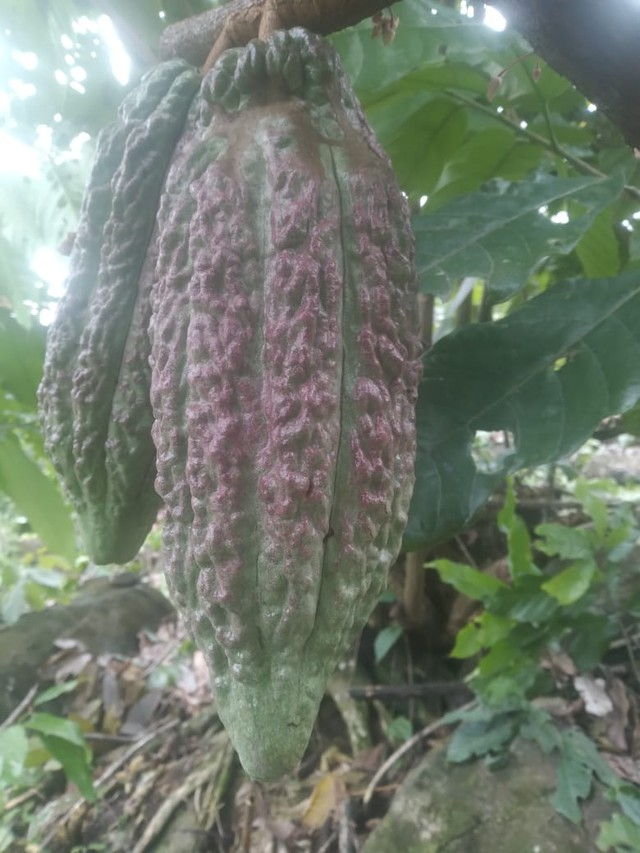Health: (135, 15, 436, 796)
